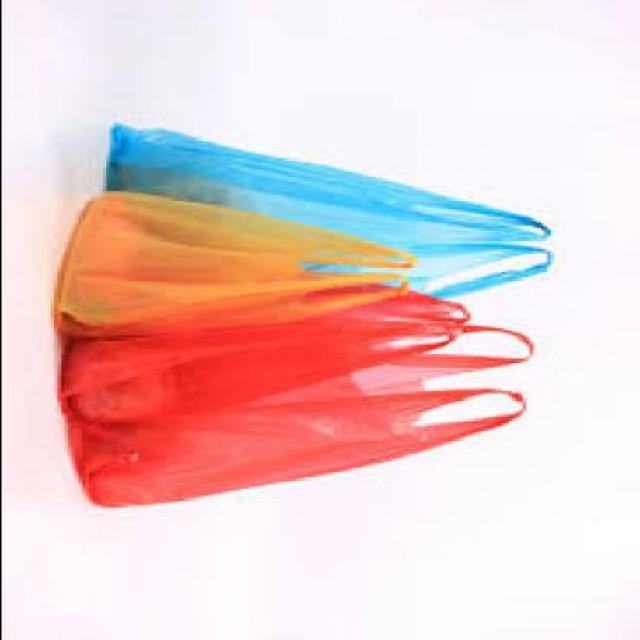PLASTIC: (70, 324, 535, 505), (102, 123, 552, 305), (60, 279, 472, 424), (56, 191, 416, 331)
